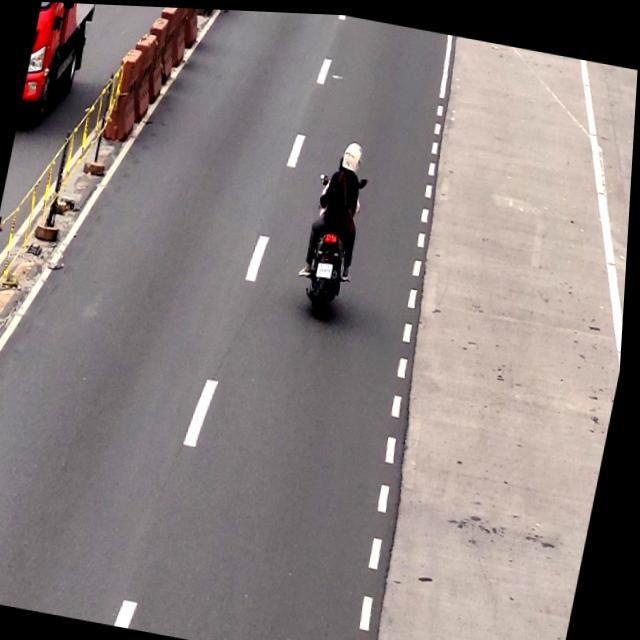License-Plate: (317, 257, 338, 279)
Motorcycle: (297, 132, 377, 323)
